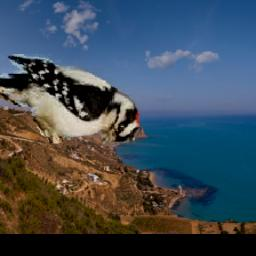Woodpecker: (0, 54, 139, 149)
